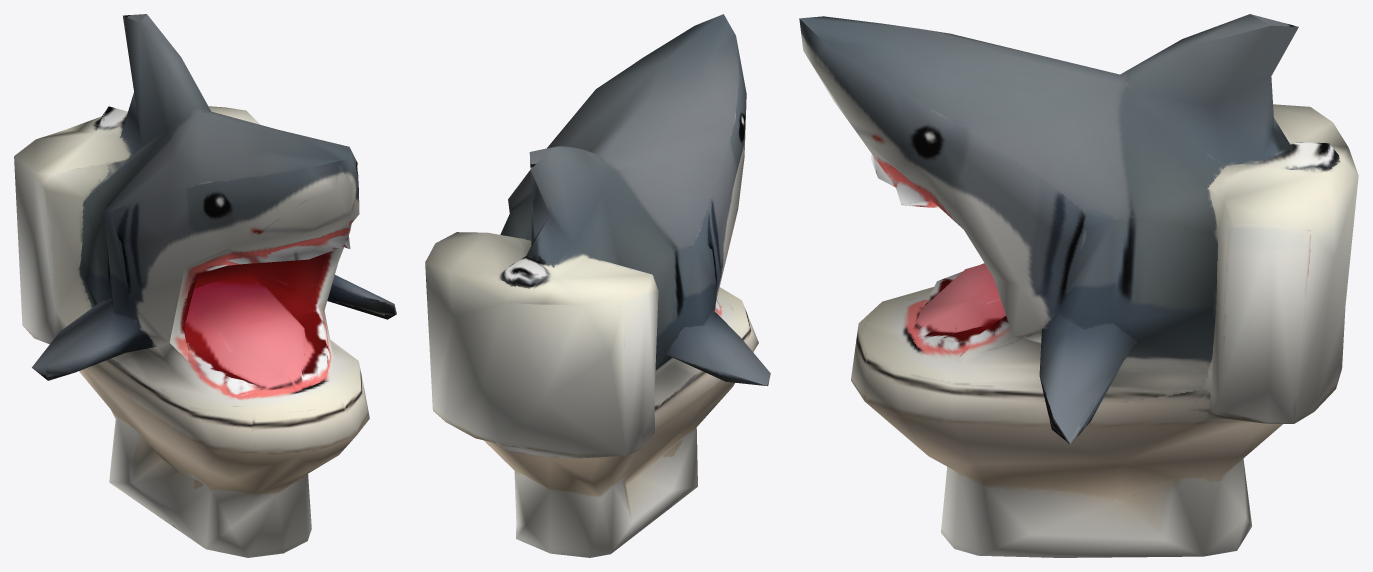
File: shark-jaws-toilet.glb
3 views of the same model, side by side, from view 1: azimuth 30°, elevation 25°; view 2: azimuth 150°, elevation 25°; view 3: azimuth 270°, elevation 25° (orthographic). The views are drawn at different scales.
Visible parts, largest first — view 1: geometry_0.001; view 2: geometry_0.001; view 3: geometry_0.001.
Boxes of the visible parts, box(x1,y1,x2,y2) form: geometry_0.001: box(14, 14, 396, 557); geometry_0.001: box(425, 14, 770, 557); geometry_0.001: box(799, 14, 1358, 557).
Size of the model in its own units: 0.8339 by 1 by 0.9866.
1 material, 1 textured.
